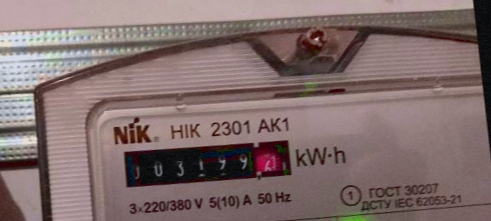0: (128, 159, 142, 182), (151, 157, 165, 178)
1: (194, 152, 206, 172)
3: (173, 158, 186, 178)
6: (262, 157, 274, 174)
9: (215, 151, 228, 172), (236, 150, 249, 170)
screen: (115, 128, 302, 202)
